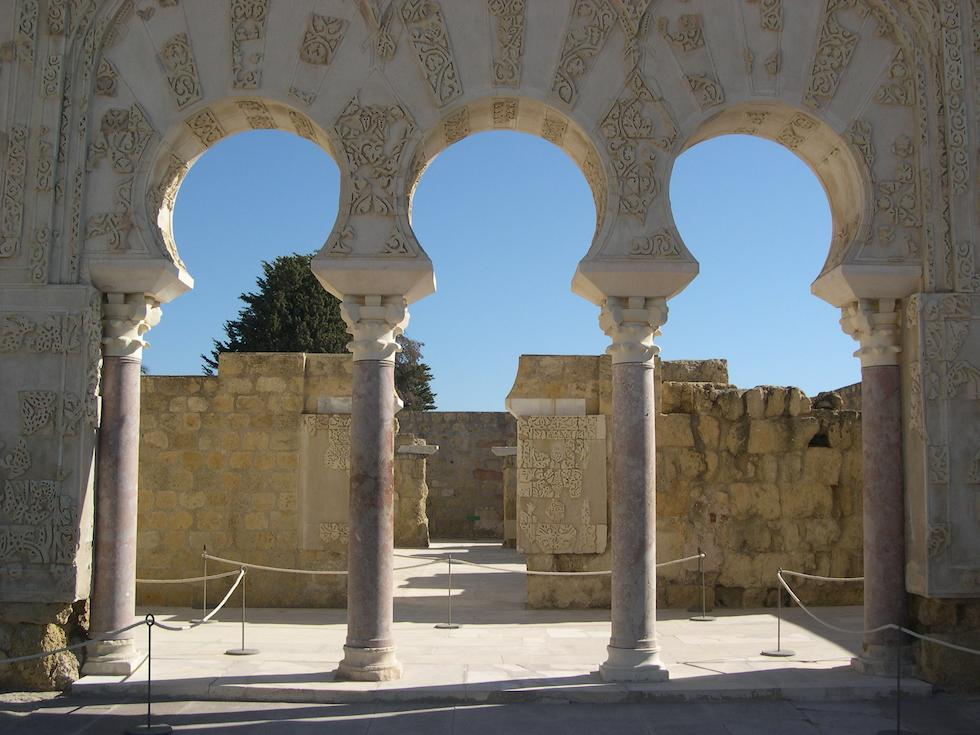arco-herradura: (370, 71, 634, 329), (631, 81, 887, 334), (123, 80, 375, 329)
